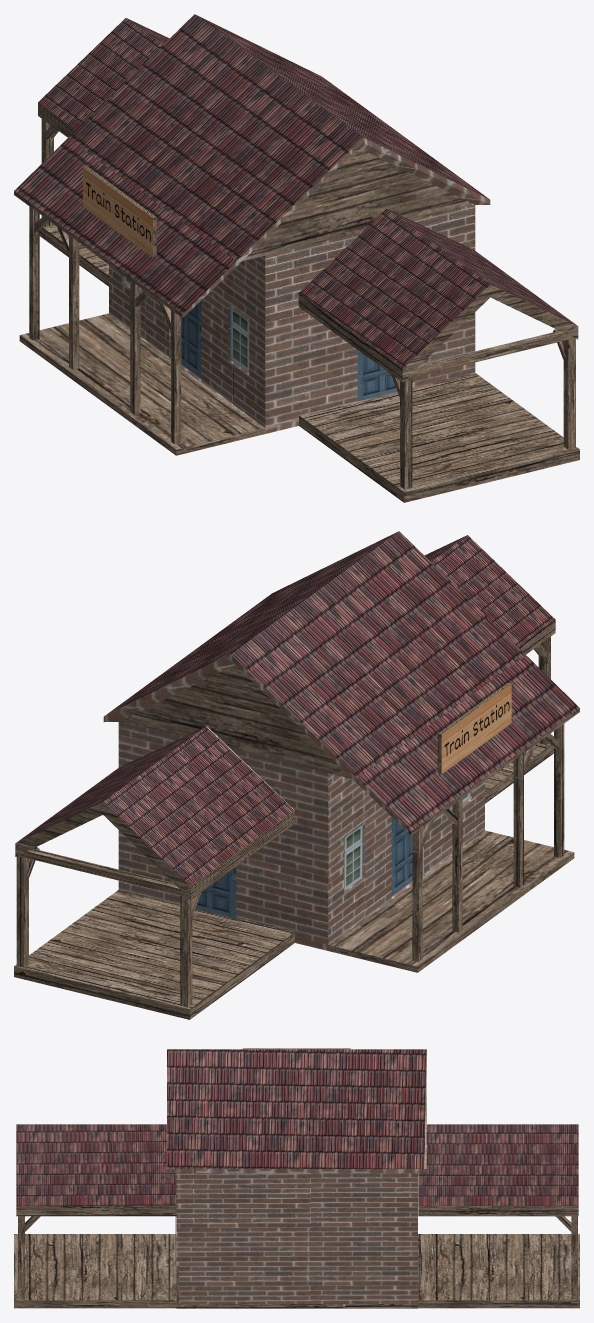
The model's file is trainstation.fbx.
The picture shows the model from 3 angles, top to bottom: view 1: azimuth 30°, elevation 25°; view 2: azimuth 150°, elevation 25°; view 3: azimuth 270°, elevation 25°; orthographic projection. The views are drawn at different scales.
Parts seen in each view (by area): view 1: Cube.003; view 2: Cube.003; view 3: Cube.003.
Boxes of the visible parts, box(x1,y1,x2,y2) form: Cube.003: box(14, 14, 579, 502); Cube.003: box(14, 531, 579, 1019); Cube.003: box(14, 1048, 579, 1308).
Bounding box in the file's own units: 508 × 439 × 1048.
1 material, 1 textured.
